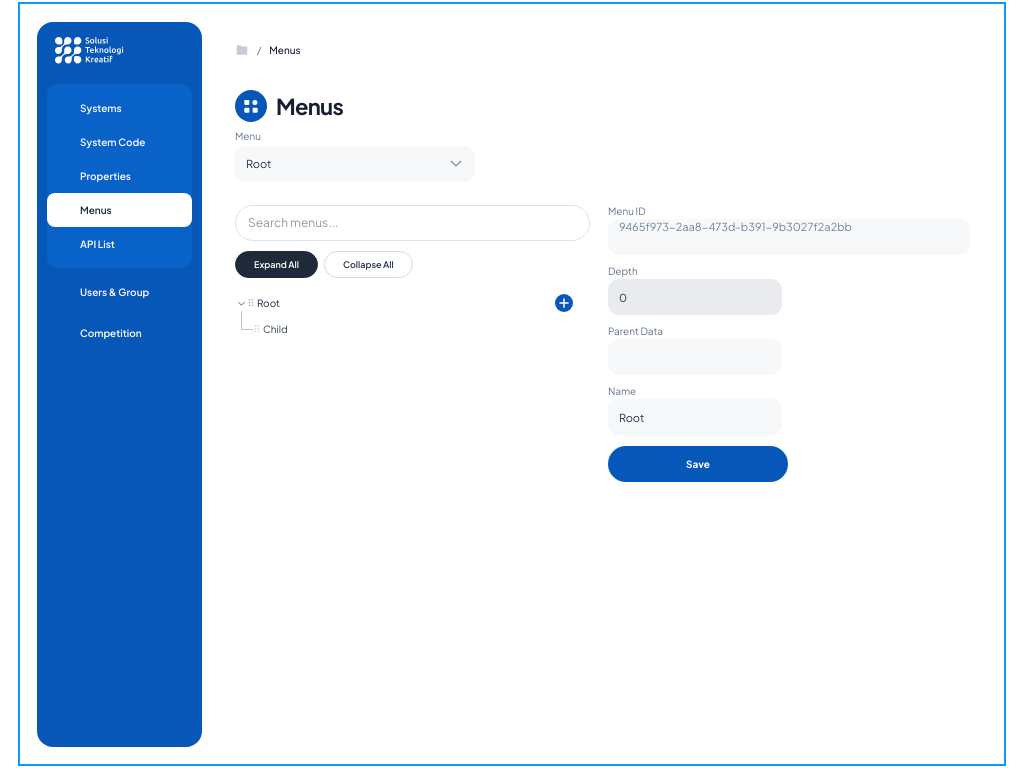
Test: menu manager › saves an edited menu name
Expected: the button named "Ciutkan Root" is shown, [235, 295, 247, 311]
Replace the text in the field labelled "Name" with "Updated root" at (695, 417), box [608, 399, 782, 435]
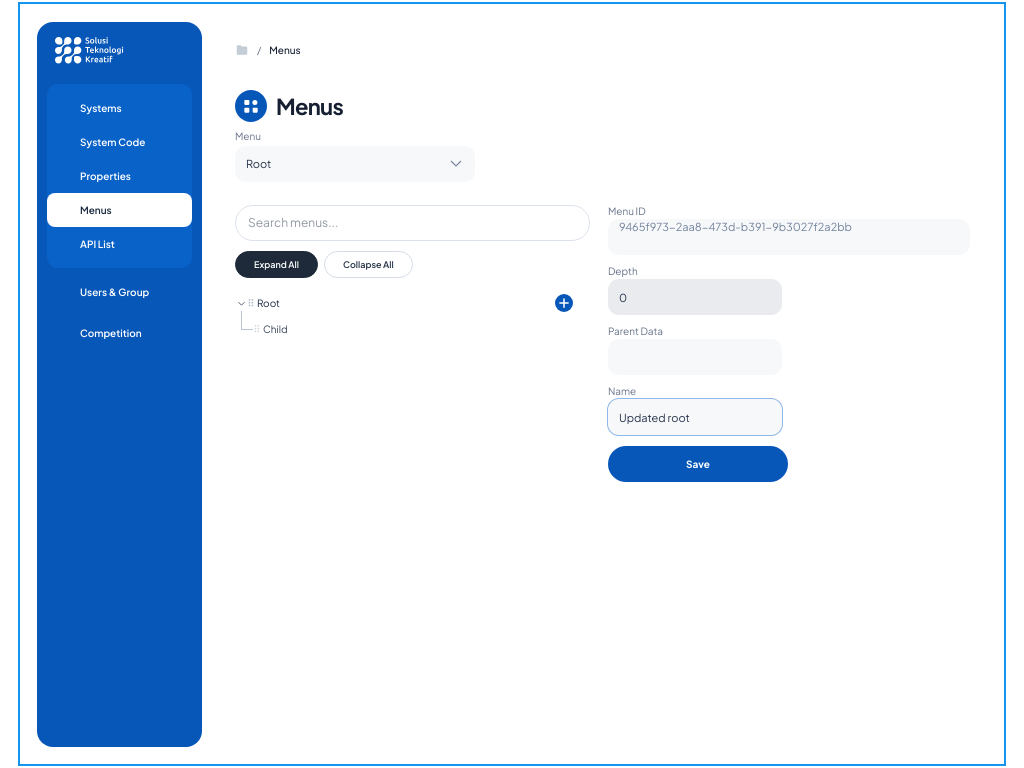
Click the button "Save".
click(698, 464)  # box [608, 446, 788, 482]
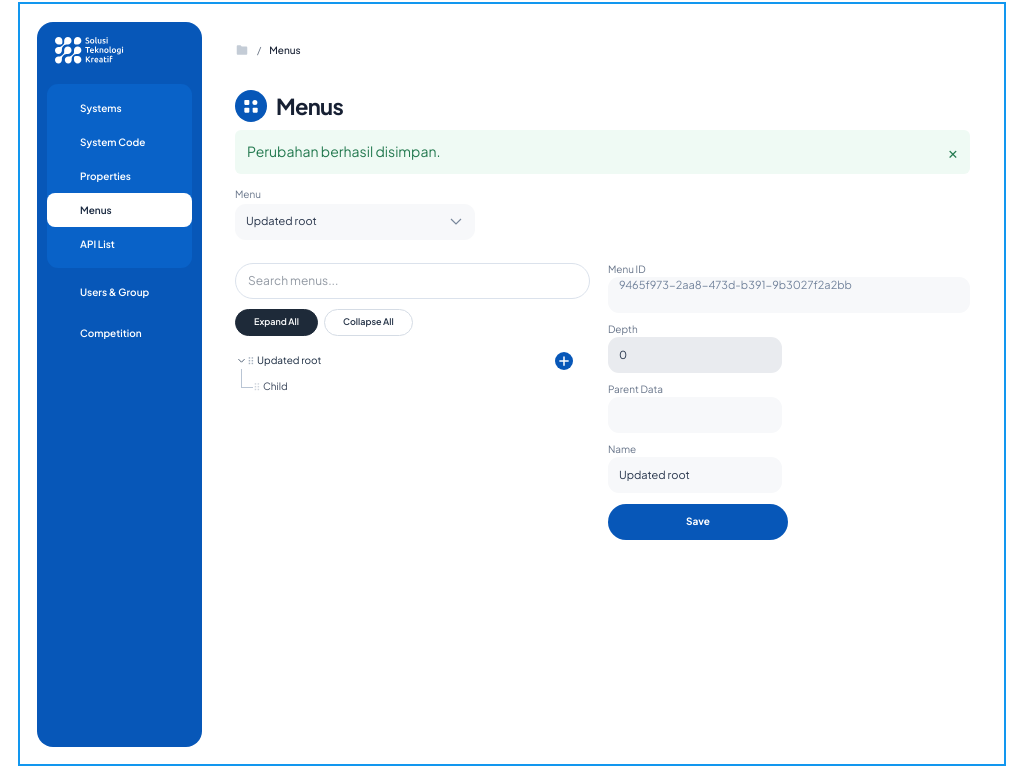
Expected: the message shows "Perubahan berhasil disimpan.", [247, 142, 440, 160]
